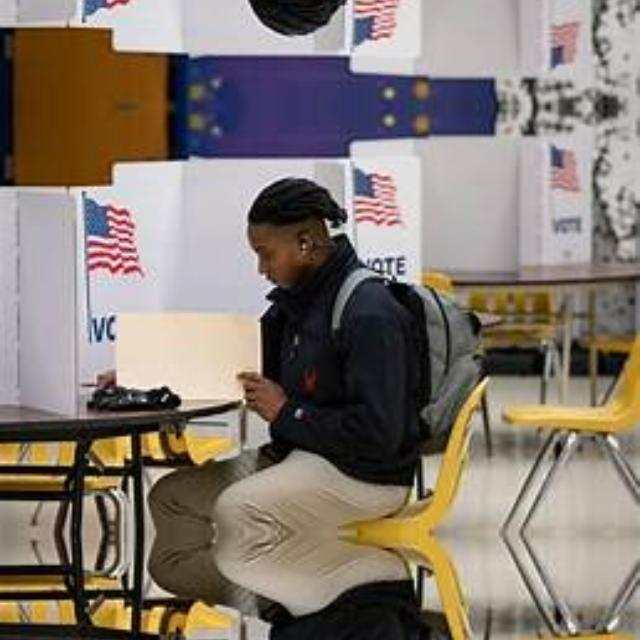person: (186, 169, 458, 533), (186, 532, 458, 640), (186, 0, 458, 43)
